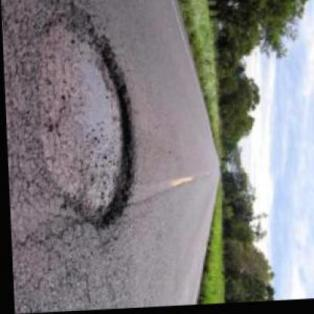Hueco: (18, 0, 138, 236)
